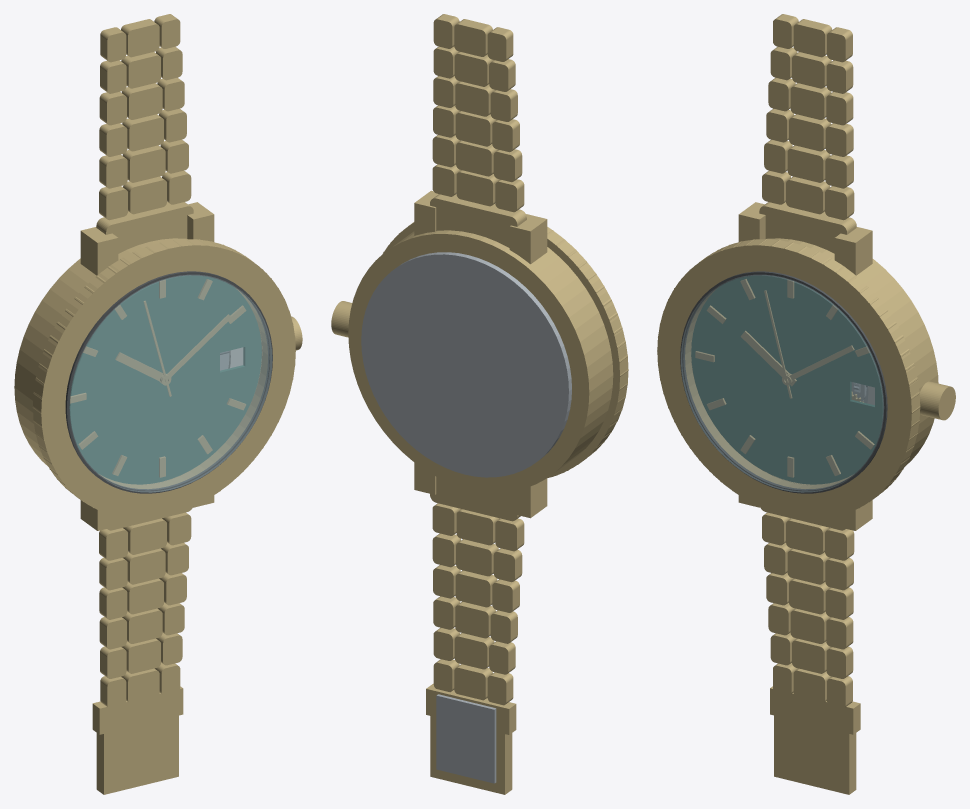
Rendered from assembly.glb.
3 views of the same model, side by side, from view 1: azimuth 30°, elevation 25°; view 2: azimuth 150°, elevation 25°; view 3: azimuth 330°, elevation 25° (orthographic).
Visible parts, largest first — view 1: part-002, part-010, part-001, part-000, part-127, part-003, part-102, part-130, part-104, part-108, part-112, part-079 (+33 smaller); view 2: part-004, part-000, part-129, part-001, part-102, part-127, part-077, part-083, part-087, part-104, part-079, part-108 (+33 smaller); view 3: part-002, part-010, part-001, part-000, part-127, part-003, part-102, part-130, part-104, part-108, part-112, part-006 (+33 smaller).
Part boxes in pixels (x1,y1,x2,y2): part-002: (69,275,272,492); part-010: (69,275,261,484); part-001: (32,239,295,518); part-000: (14,202,262,530); part-127: (96,698,178,794); part-003: (65,271,272,493); part-102: (96,202,193,253); part-130: (92,686,183,734); part-104: (123,176,166,214); part-108: (122,145,165,182); part-112: (122,114,163,151); part-079: (123,518,166,554); part-004: (361,252,571,477); part-000: (348,190,613,518); part-129: (436,694,496,783); part-001: (383,222,628,477); part-102: (430,194,526,247); part-127: (430,698,512,794); part-077: (430,477,520,521); part-083: (456,539,498,576); part-087: (455,570,497,607); part-104: (456,170,499,206); part-079: (456,509,500,545); part-108: (456,140,498,176); part-002: (681,275,883,492); part-010: (691,275,883,484); part-001: (657,239,920,518); part-000: (690,202,938,530); part-127: (774,698,856,794); part-003: (680,271,887,493); part-102: (759,202,856,253); part-130: (770,686,860,734); part-104: (786,176,829,214); part-108: (787,145,830,182); part-112: (789,114,830,151); part-006: (919,381,955,420).
Bounding box in the file's own units: 0.065 × 0.1741 × 0.0164.
